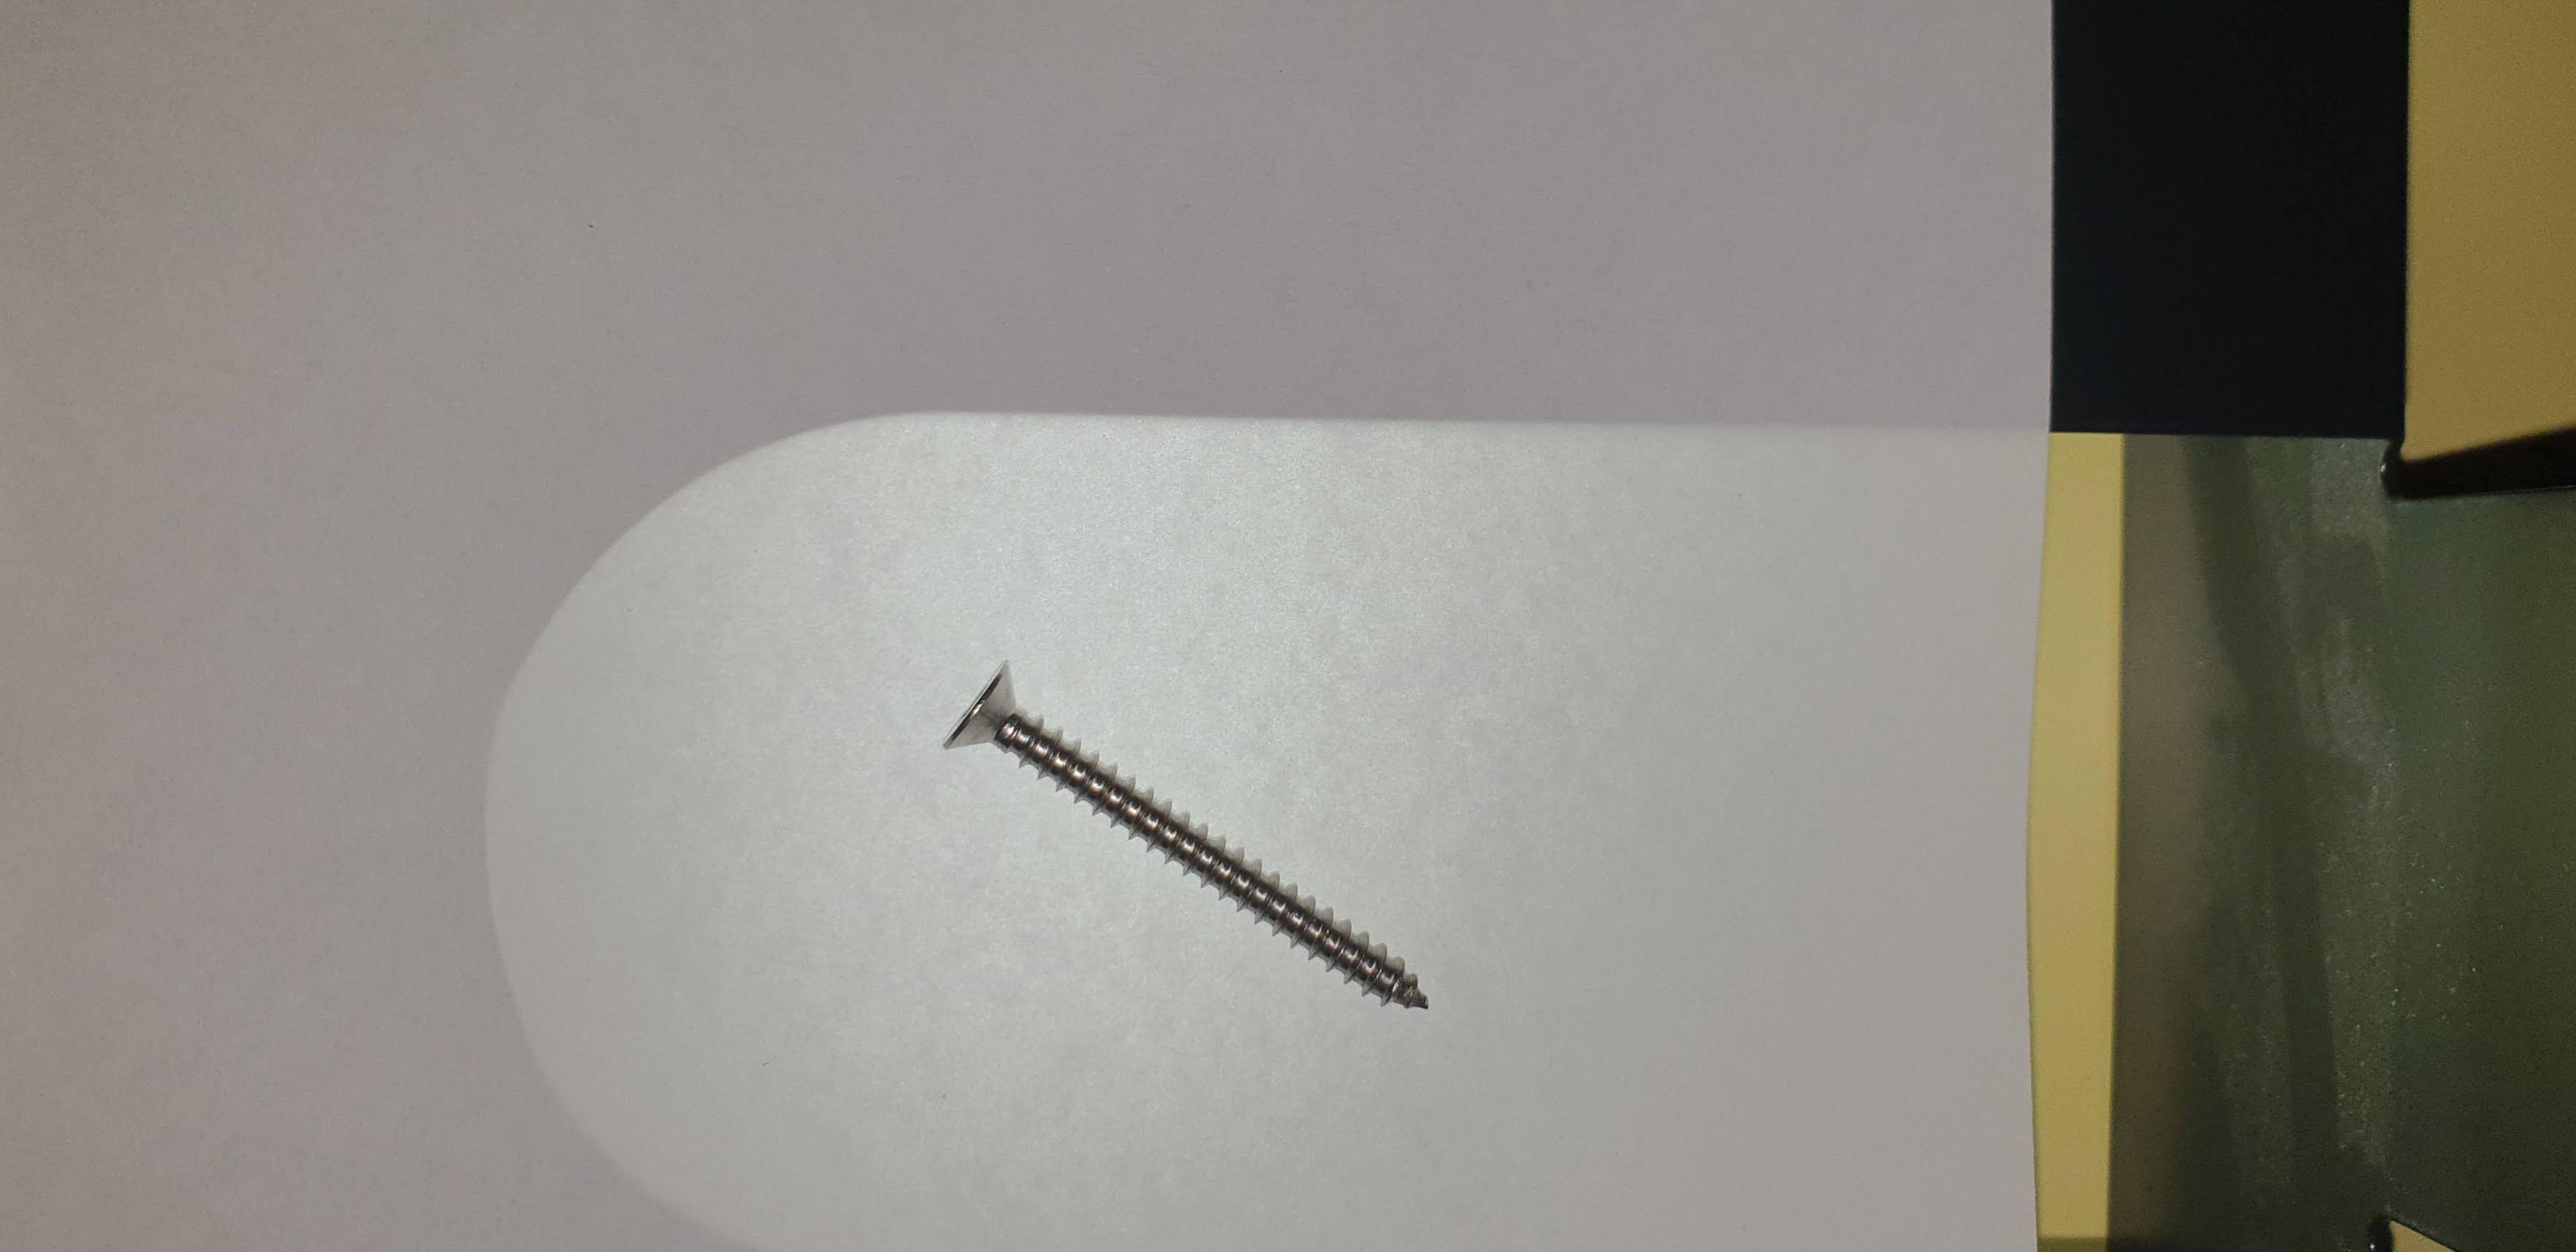fastener: (897, 629, 1515, 1060)
